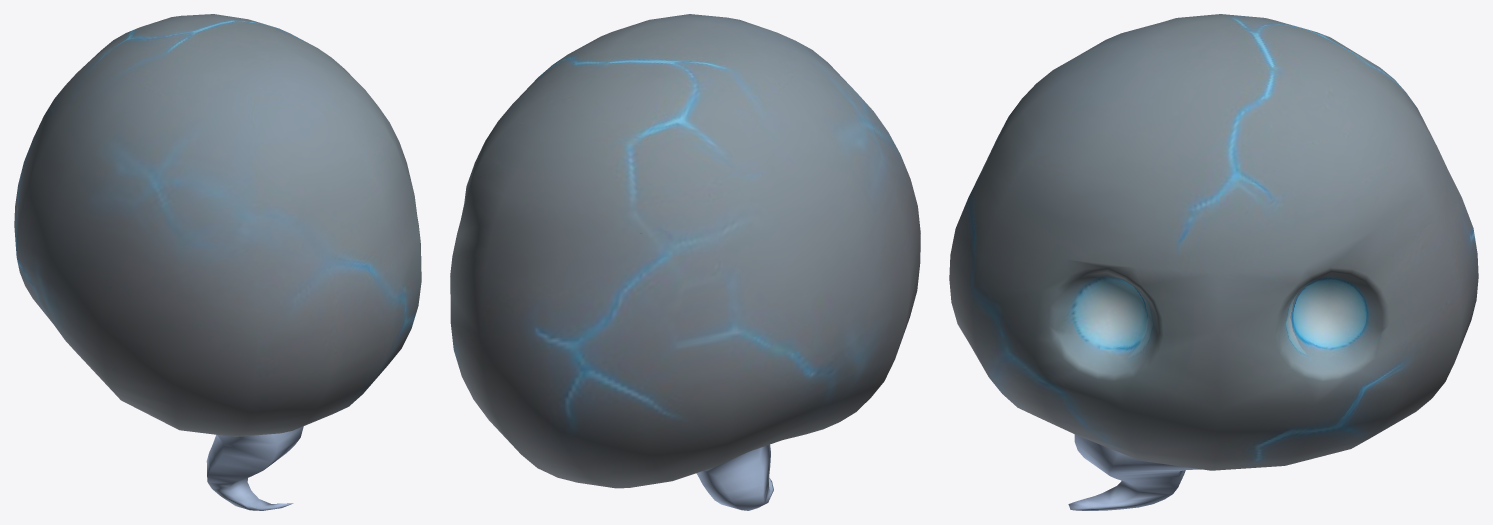
Rendered from rune_stone.fbx.
The picture shows the model from 3 angles, left to right: view 1: azimuth 30°, elevation 25°; view 2: azimuth 150°, elevation 25°; view 3: azimuth 270°, elevation 25°; orthographic projection. The views are drawn at different scales.
Parts seen in each view (by area): view 1: rune_stone; view 2: rune_stone; view 3: rune_stone.
Part boxes in pixels (x1,y1,x2,y2): rune_stone: [14, 14, 421, 510]; rune_stone: [450, 14, 920, 510]; rune_stone: [949, 14, 1478, 510].
Bounding box in the file's own units: 4.09 × 4.99 × 4.99.
Materials: 1 (1 with a texture image).
